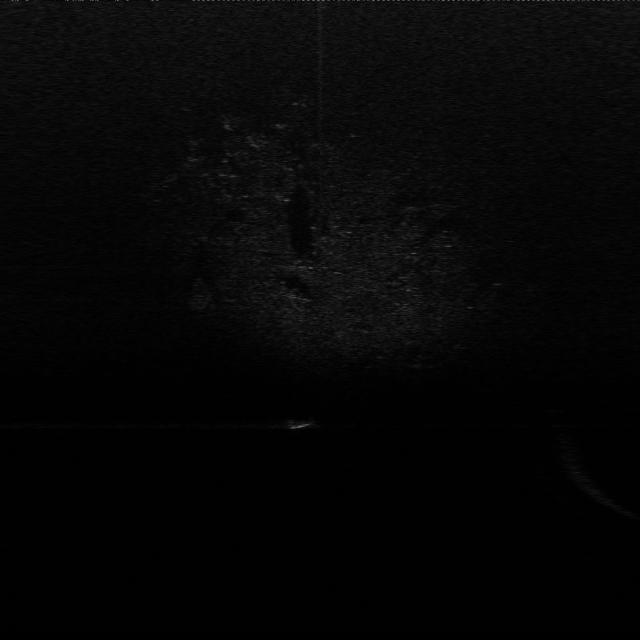square cage: (270, 414, 320, 433)
